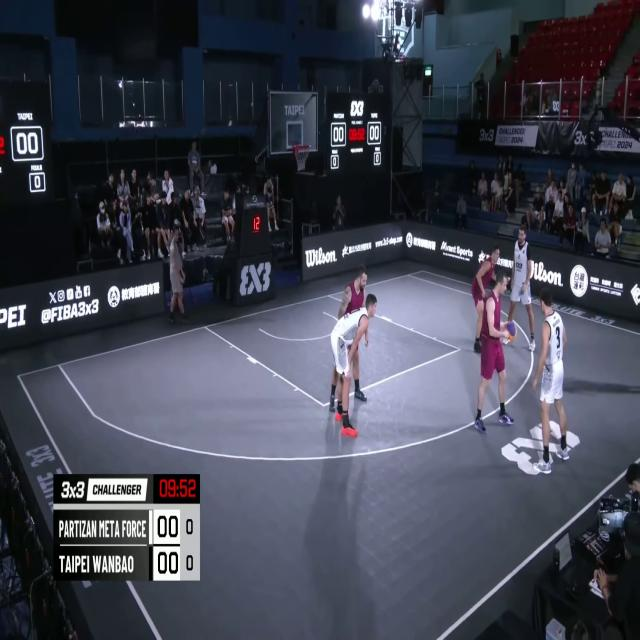ball: (505, 318, 518, 342)
hoop: (293, 141, 310, 175)
player: (532, 287, 571, 476), (330, 292, 378, 438), (476, 273, 515, 435), (329, 267, 366, 412), (505, 225, 534, 350), (470, 245, 500, 360)
